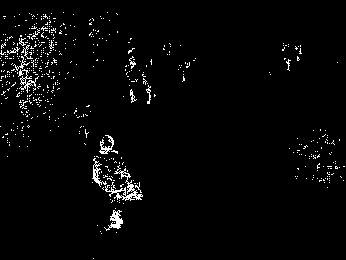person: (90, 132, 146, 240)
